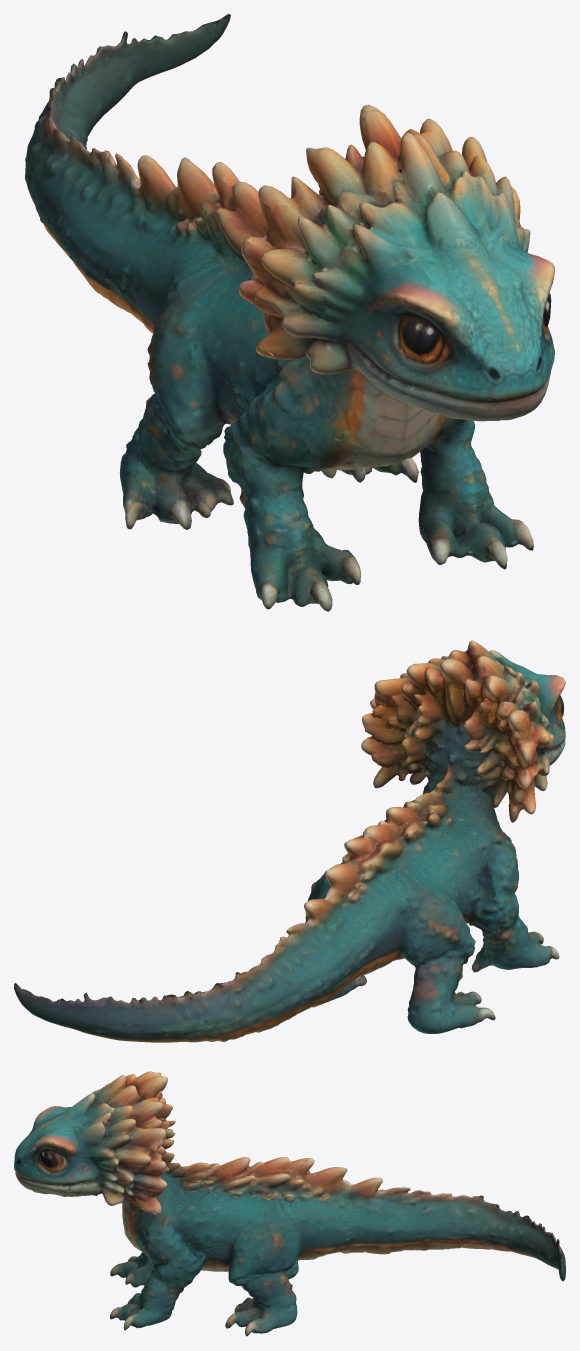
File: coral-gecko-meshy5-lod0-v1.glb
The picture shows the model from 3 angles, top to bottom: view 1: azimuth 30°, elevation 25°; view 2: azimuth 150°, elevation 25°; view 3: azimuth 270°, elevation 25°; orthographic projection. The views are drawn at different scales.
Visible parts, largest first — view 1: CoralGecko; view 2: CoralGecko; view 3: CoralGecko.
Part boxes in pixels (<box>): CoralGecko: <box>25,14,554,611</box>; CoralGecko: <box>14,640,565,1042</box>; CoralGecko: <box>14,1071,565,1336</box>.
Size of the model in its own units: 0.8738 by 0.9137 by 2.
1 material, 1 textured.
